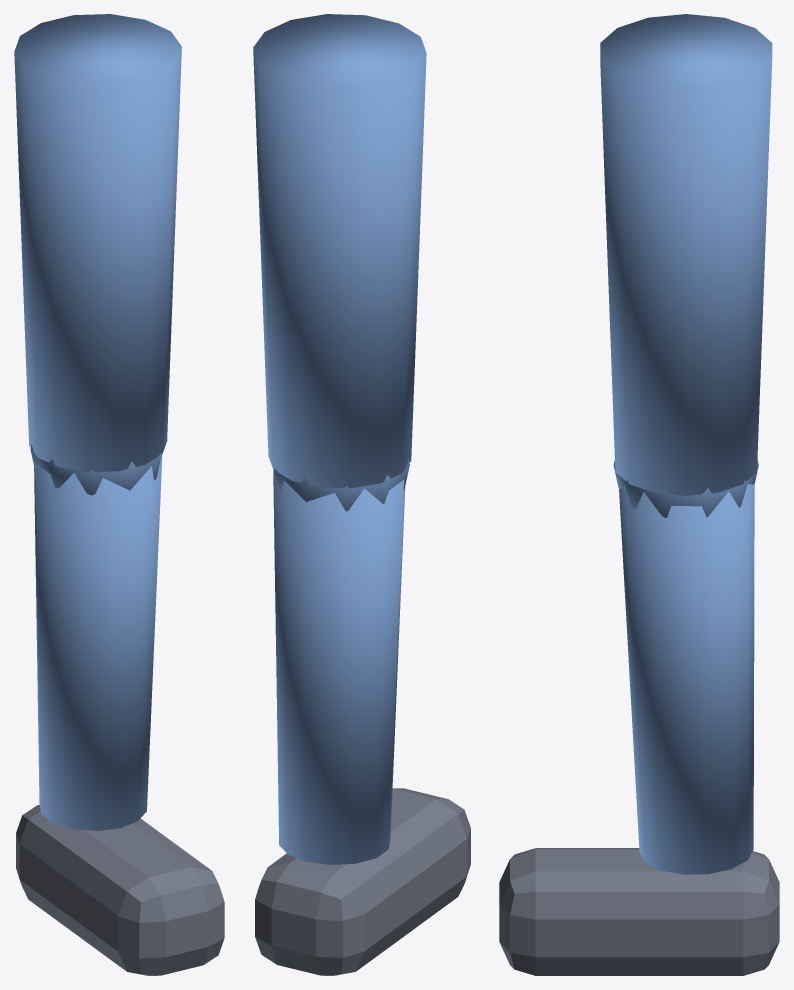
Rendered from crew__legL.fbx.
3 views of the same model, side by side, from view 1: azimuth 30°, elevation 25°; view 2: azimuth 150°, elevation 25°; view 3: azimuth 270°, elevation 25° (orthographic). The views are drawn at different scales.
Parts seen in each view (by area): view 1: crew__legL; view 2: crew__legL; view 3: crew__legL.
Part boxes in pixels (left/top/right/bottom): crew__legL: left=14, top=14, right=224, bottom=975; crew__legL: left=253, top=14, right=470, bottom=975; crew__legL: left=499, top=14, right=779, bottom=975.
Bounding box in the file's own units: 0.17 × 0.97 × 0.27.
